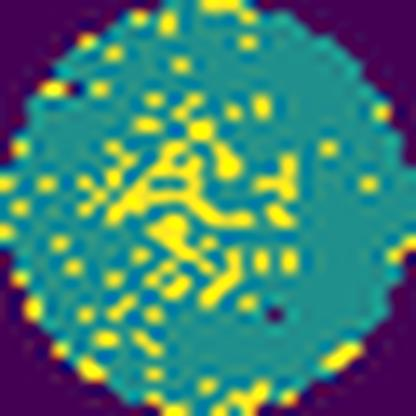Center: (74, 90, 298, 314)
